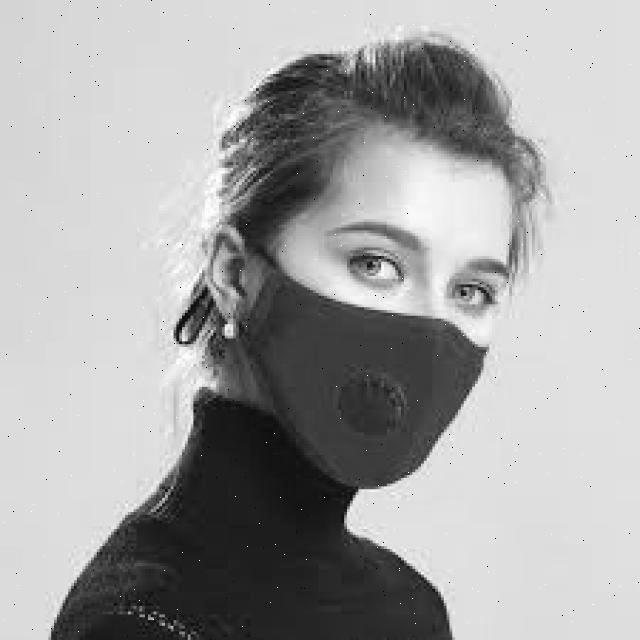fake: (221, 214, 507, 502)
real: (242, 125, 510, 506)
